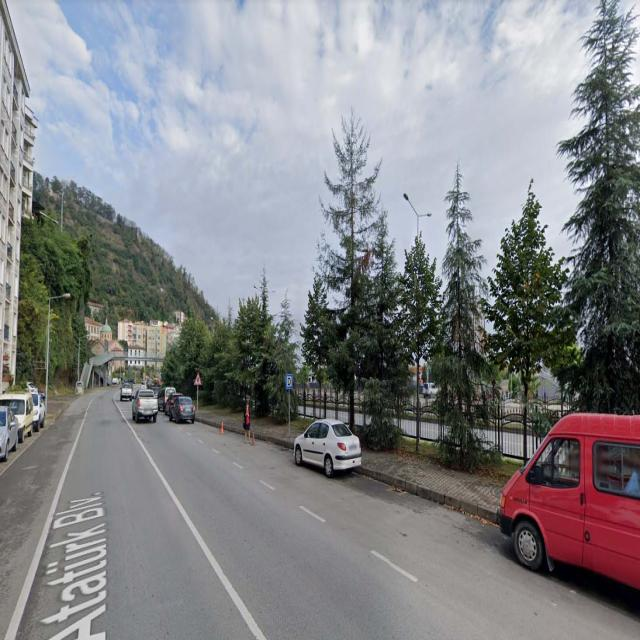durak: (286, 374, 292, 389)
